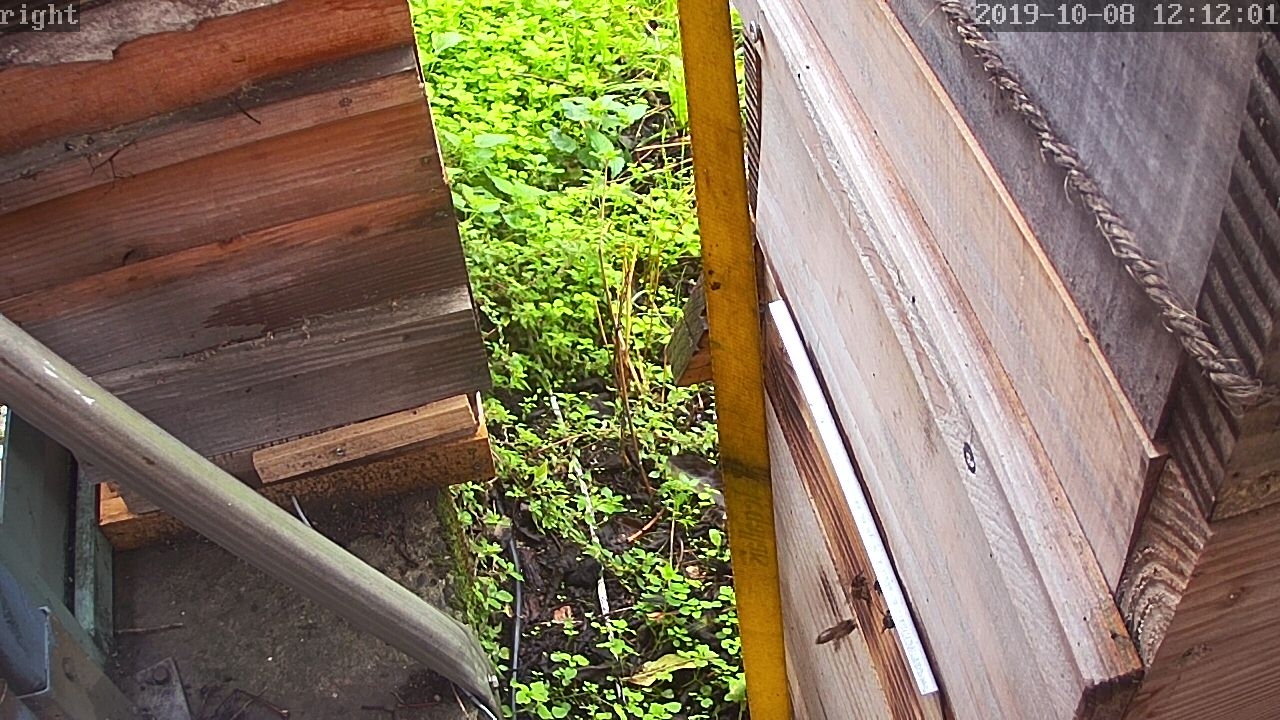bee: (818, 616, 861, 652), (842, 569, 874, 610), (874, 602, 901, 639)
